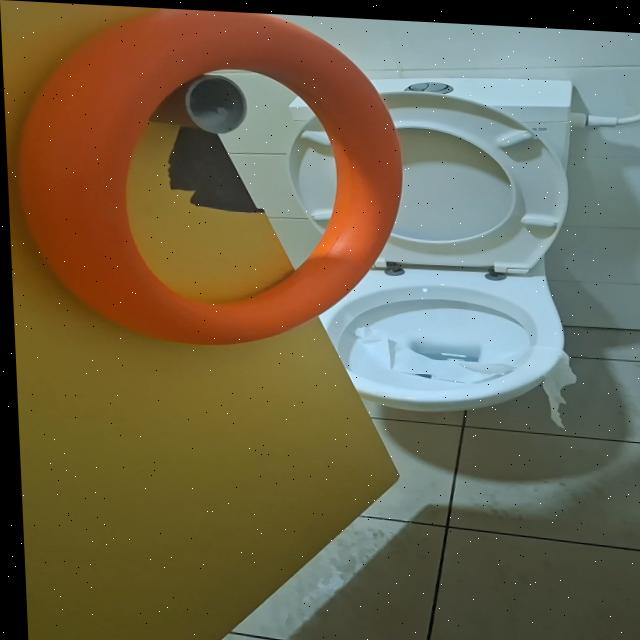note: (10, 1, 409, 352)
